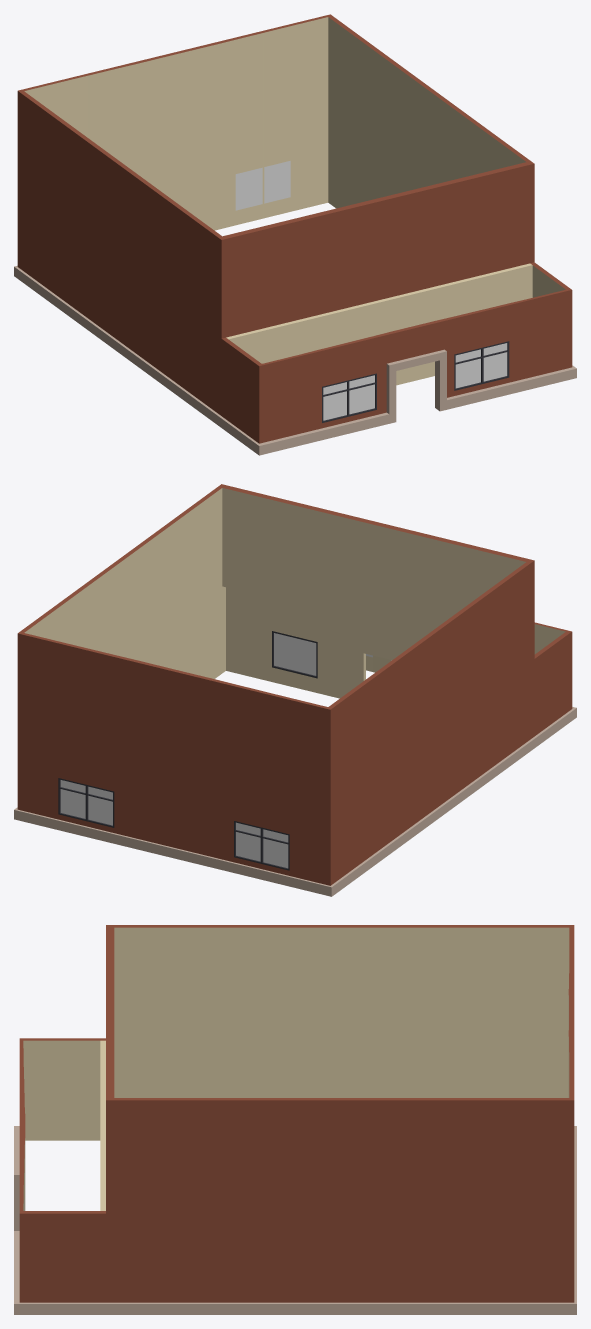
The model's file is Auditorium.fbx.
The picture shows the model from 3 angles, top to bottom: view 1: azimuth 30°, elevation 25°; view 2: azimuth 150°, elevation 25°; view 3: azimuth 270°, elevation 25°; orthographic projection. The views are drawn at different scales.
Visible parts, largest first — view 1: Auditorium; view 2: Auditorium; view 3: Auditorium.
Part boxes in pixels (bbox=[...]): Auditorium: bbox=[14, 14, 576, 455]; Auditorium: bbox=[14, 484, 576, 896]; Auditorium: bbox=[14, 925, 576, 1314].
Bounding box in the file's own units: 22.76 × 12.71 × 30.42.
